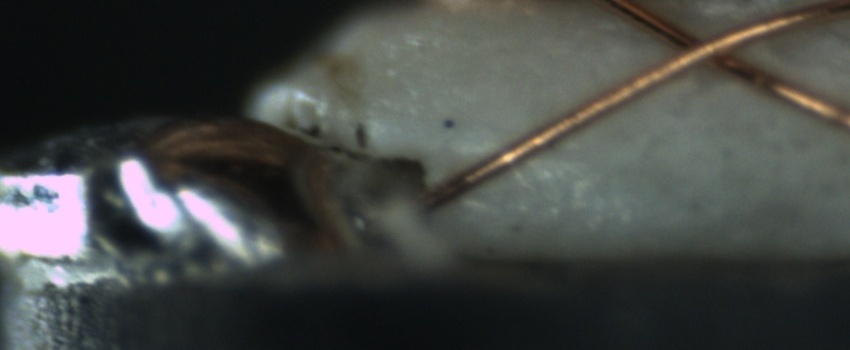CL: (646, 19, 765, 80)
